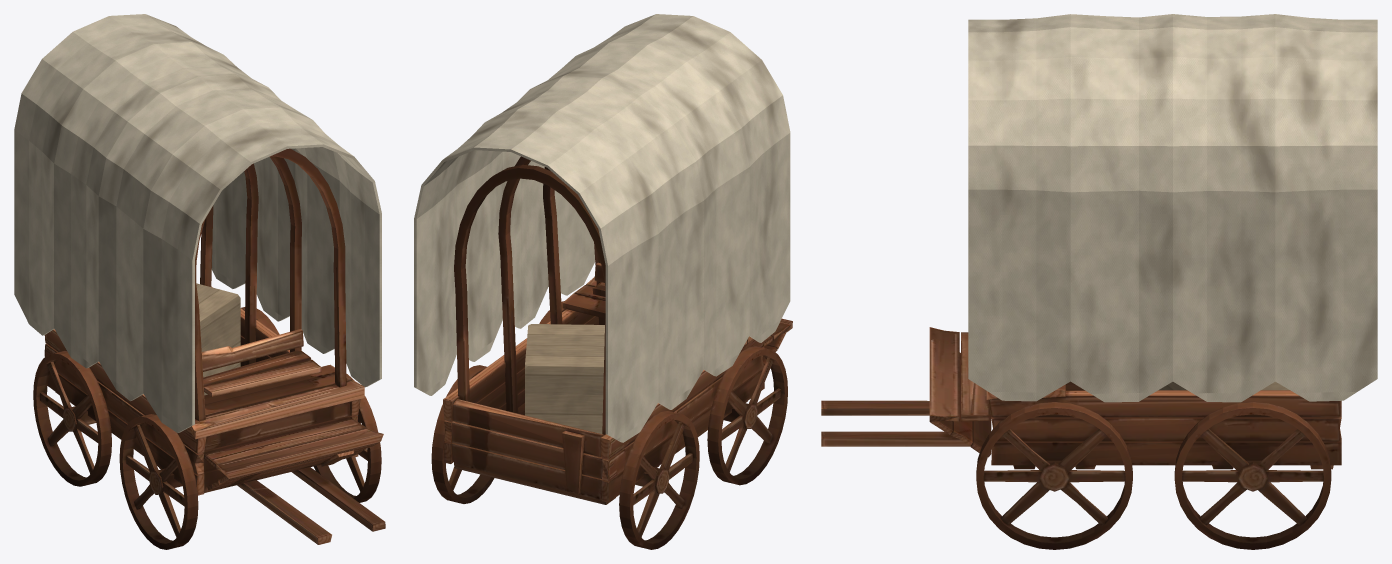
Rendered from fable_t04.glb.
The picture shows the model from 3 angles, left to right: view 1: azimuth 30°, elevation 25°; view 2: azimuth 150°, elevation 25°; view 3: azimuth 270°, elevation 25°; orthographic projection. The views are drawn at different scales.
Parts seen in each view (by area): view 1: canopy_shell, slot_anchor_frame, slot_front_wheels, crate_body; view 2: canopy_shell, slot_anchor_frame, crate_body, slot_front_wheels; view 3: canopy_shell, slot_anchor_frame, slot_front_wheels.
Part boxes in pixels (<box>): canopy_shell: <box>14,14,381,432</box>; slot_anchor_frame: <box>33,148,385,544</box>; slot_front_wheels: <box>119,373,381,549</box>; crate_body: <box>196,283,240,395</box>; canopy_shell: <box>414,14,790,442</box>; slot_anchor_frame: <box>431,156,792,549</box>; crate_body: <box>525,324,604,433</box>; slot_front_wheels: <box>539,301,787,485</box>; canopy_shell: <box>968,14,1377,402</box>; slot_anchor_frame: <box>821,327,1341,549</box>; slot_front_wheels: <box>976,402,1132,549</box>.
Bounding box in the file's own units: 0.9869 × 1.93 × 2.08.
3 materials, 3 textured.
